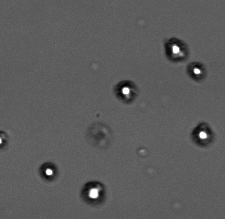Dead Cell: (87, 123, 111, 147)
Living Cell: (164, 37, 188, 61), (191, 121, 215, 145), (81, 180, 104, 204), (115, 80, 138, 101), (38, 161, 59, 181), (186, 61, 207, 79), (1, 129, 11, 151)
